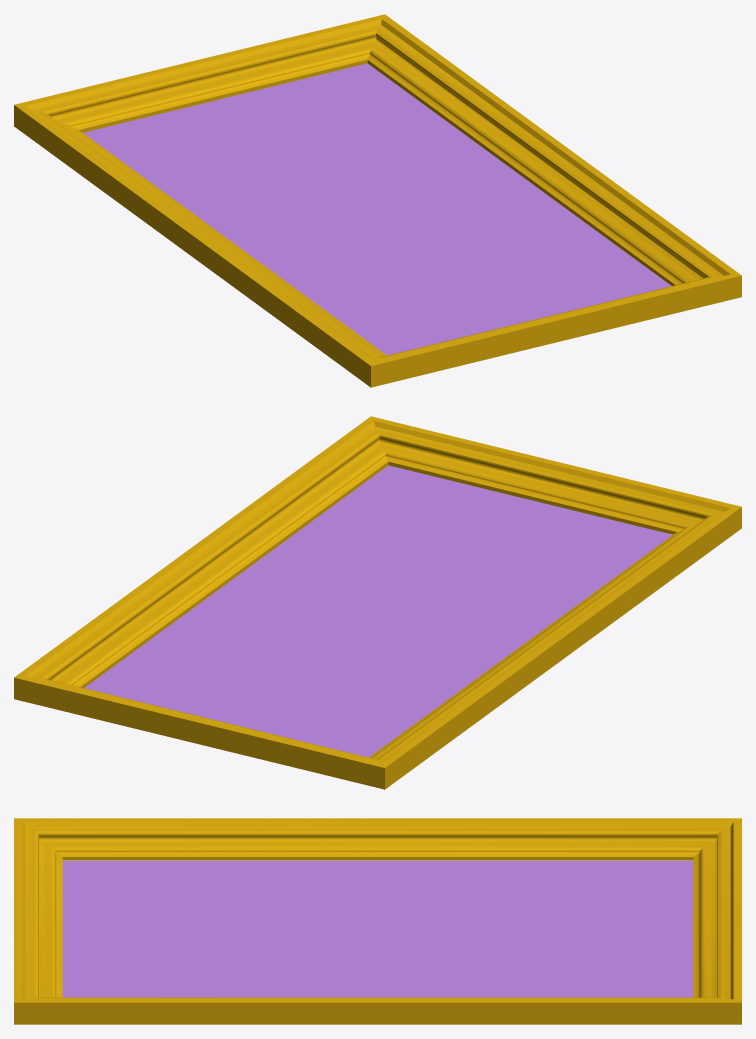
Rendered from Marco.glb.
3 renders of one model, top to bottom at view 1: azimuth 30°, elevation 25°; view 2: azimuth 150°, elevation 25°; view 3: azimuth 270°, elevation 25°, orthographic.
Visible parts, largest first — view 1: foto, marco; view 2: foto, marco; view 3: foto, marco.
Boxes of the visible parts, <box> form: foto: <box>83,63,671,355</box>; marco: <box>14,14,741,387</box>; foto: <box>84,465,672,757</box>; marco: <box>14,416,741,789</box>; foto: <box>62,861,693,997</box>; marco: <box>14,818,741,1024</box>.
Size of the model in its own units: 18 by 1.09 by 30.
Materials: 2 (1 with a texture image).
